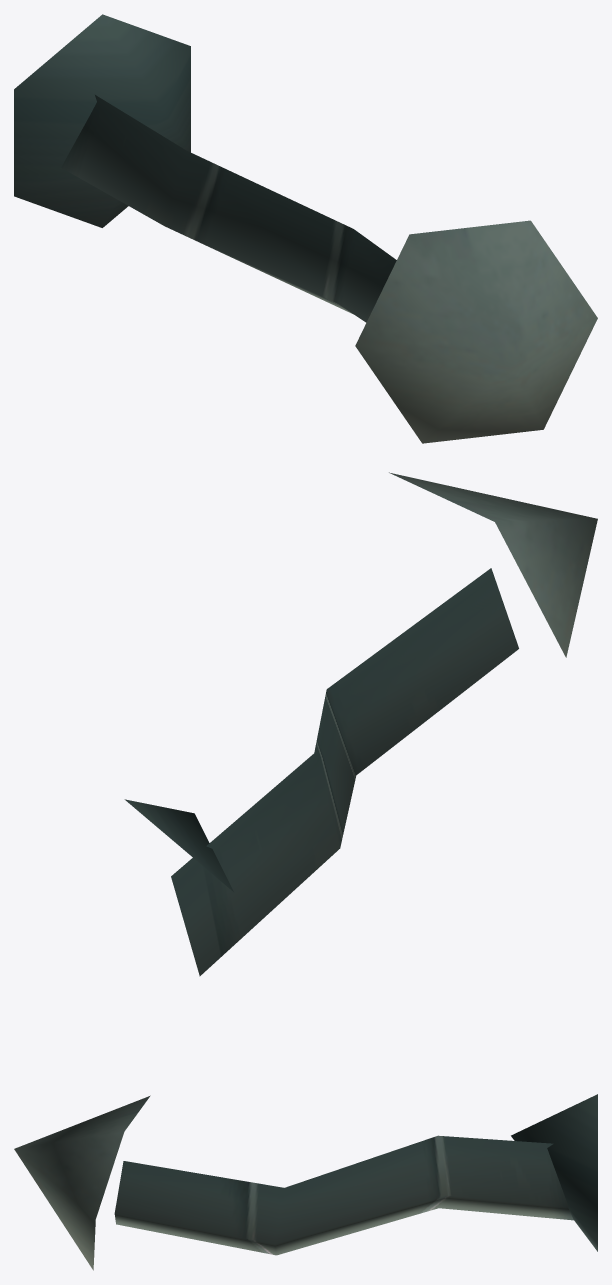
Rendered from chimney_pipe_01.glb.
3 renders of one model, top to bottom at view 1: azimuth 30°, elevation 25°; view 2: azimuth 150°, elevation 25°; view 3: azimuth 270°, elevation 25°, orthographic. The views are drawn at different scales.
Visible parts, largest first — view 1: metal_parts.chimney_pipe_01-Mesh[0]; view 2: metal_parts.chimney_pipe_01-Mesh[0]; view 3: metal_parts.chimney_pipe_01-Mesh[0].
Part boxes in pixels (box(x1,y1,x2,y2)): metal_parts.chimney_pipe_01-Mesh[0]: box(14, 14, 597, 443); metal_parts.chimney_pipe_01-Mesh[0]: box(124, 472, 597, 976); metal_parts.chimney_pipe_01-Mesh[0]: box(14, 1094, 597, 1270).
Bounding box in the file's own units: 0.7654 × 0.6454 × 2.14.
1 material, 1 textured.
